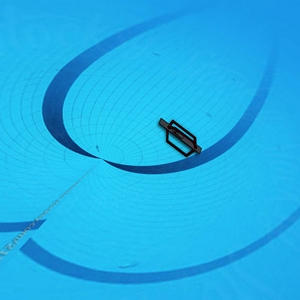submarine: (154, 113, 205, 161)
